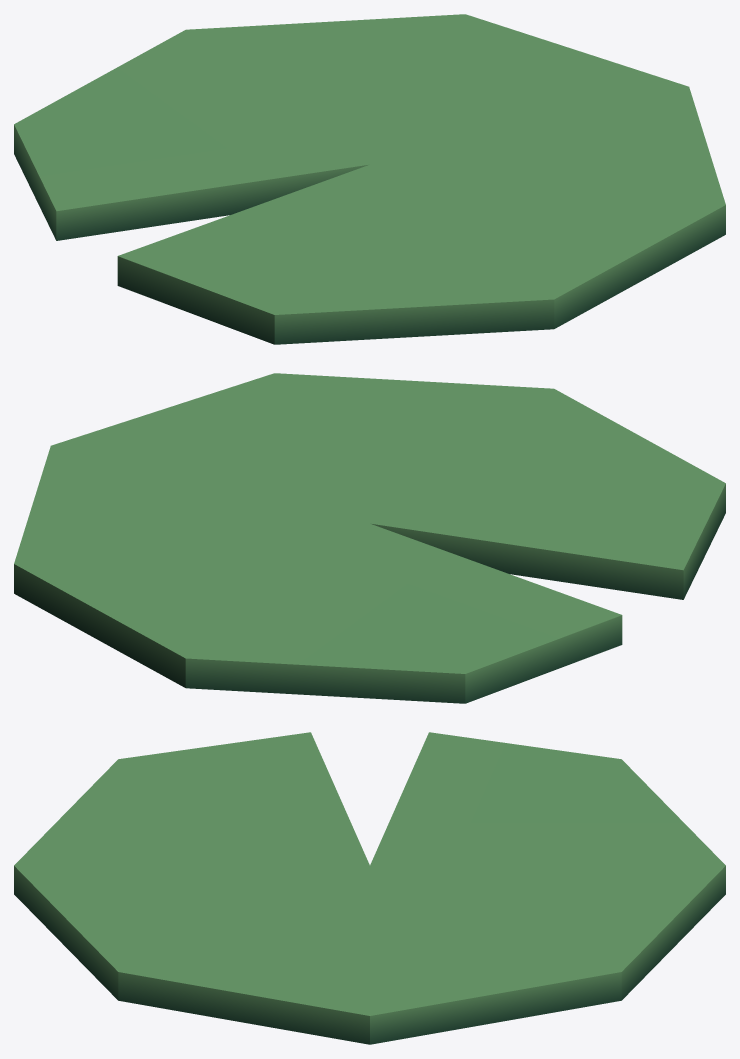
The model's file is lilypad.fbx.
3 views of the same model, one above another, from view 1: azimuth 30°, elevation 25°; view 2: azimuth 150°, elevation 25°; view 3: azimuth 270°, elevation 25° (orthographic). The views are drawn at different scales.
Parts seen in each view (by area): view 1: lilypad; view 2: lilypad; view 3: lilypad.
Part boxes in pixels (x1,y1,x2,y2): lilypad: (14,14,725,344); lilypad: (14,373,725,703); lilypad: (14,732,725,1044).
Size of the model in its own units: 106 by 5 by 112.
